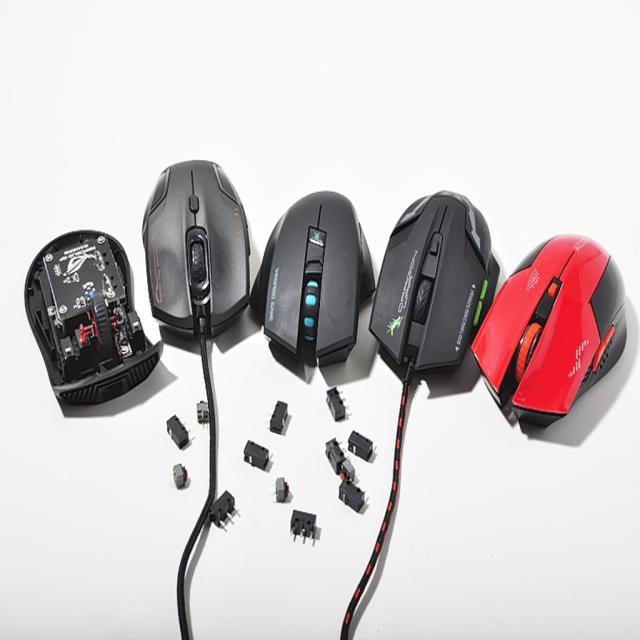Computer mouse: (469, 228, 631, 436), (366, 186, 502, 380), (21, 228, 163, 402), (245, 184, 378, 369), (142, 153, 250, 339)
